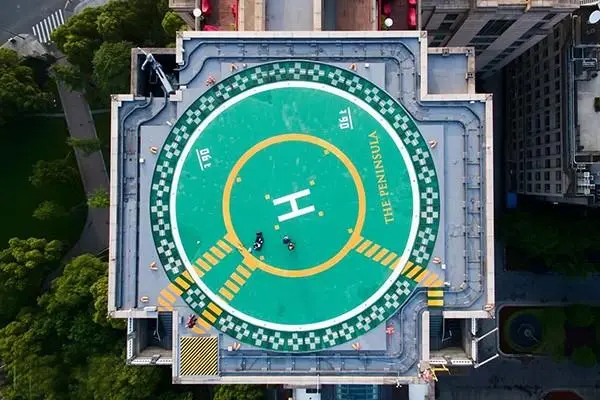Apron: (221, 132, 366, 277)
